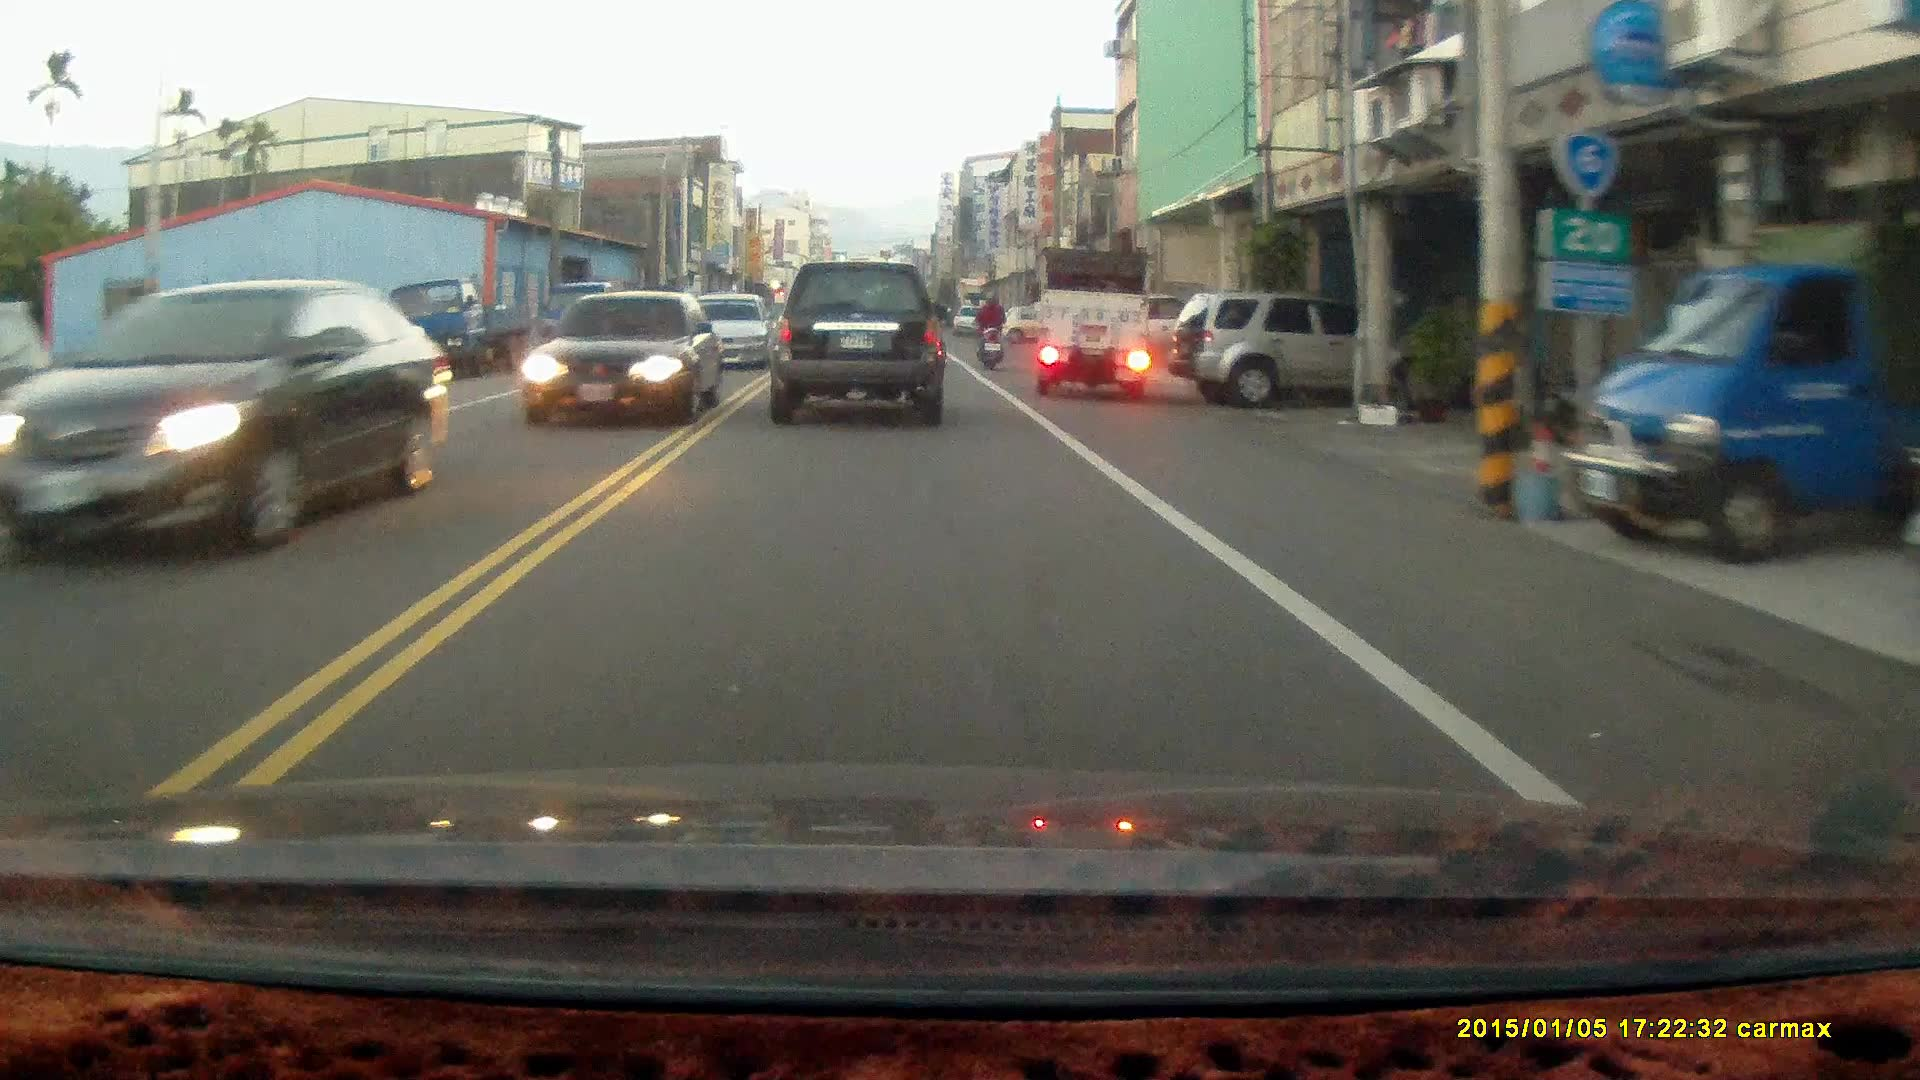rider: (971, 288, 1007, 371)
vehicle: (1569, 182, 1918, 565), (1, 277, 441, 551), (767, 263, 948, 428), (526, 288, 719, 431), (1167, 291, 1368, 408), (1037, 247, 1152, 397), (693, 290, 772, 372)
